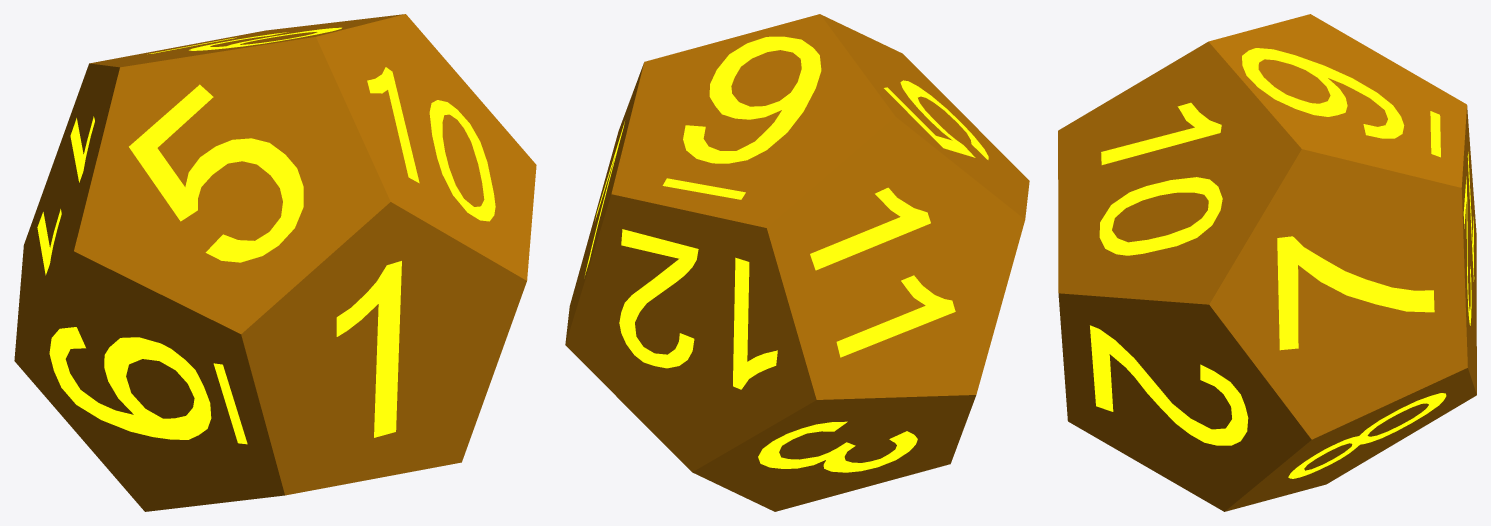
File: dice12.glb
The picture shows the model from 3 angles, left to right: view 1: azimuth 30°, elevation 25°; view 2: azimuth 150°, elevation 25°; view 3: azimuth 270°, elevation 25°; orthographic projection. The views are drawn at different scales.
Visible parts, largest first — view 1: d12; view 2: d12; view 3: d12.
Boxes of the visible parts, x1=… form: d12: x1=14, y1=14, x2=536, y2=511; d12: x1=565, y1=14, x2=1029, y2=511; d12: x1=1058, y1=14, x2=1476, y2=511.
Size of the model in its own units: 0.0325 by 0.0337 by 0.0284.
